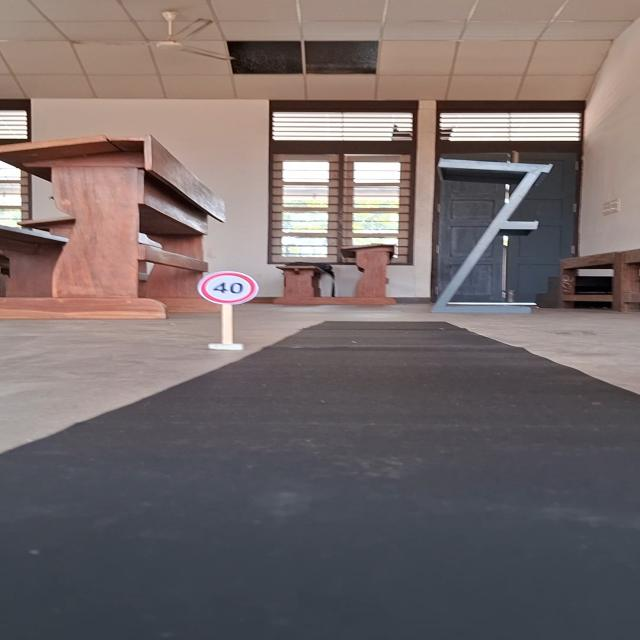Speed40: (195, 270, 260, 306)
